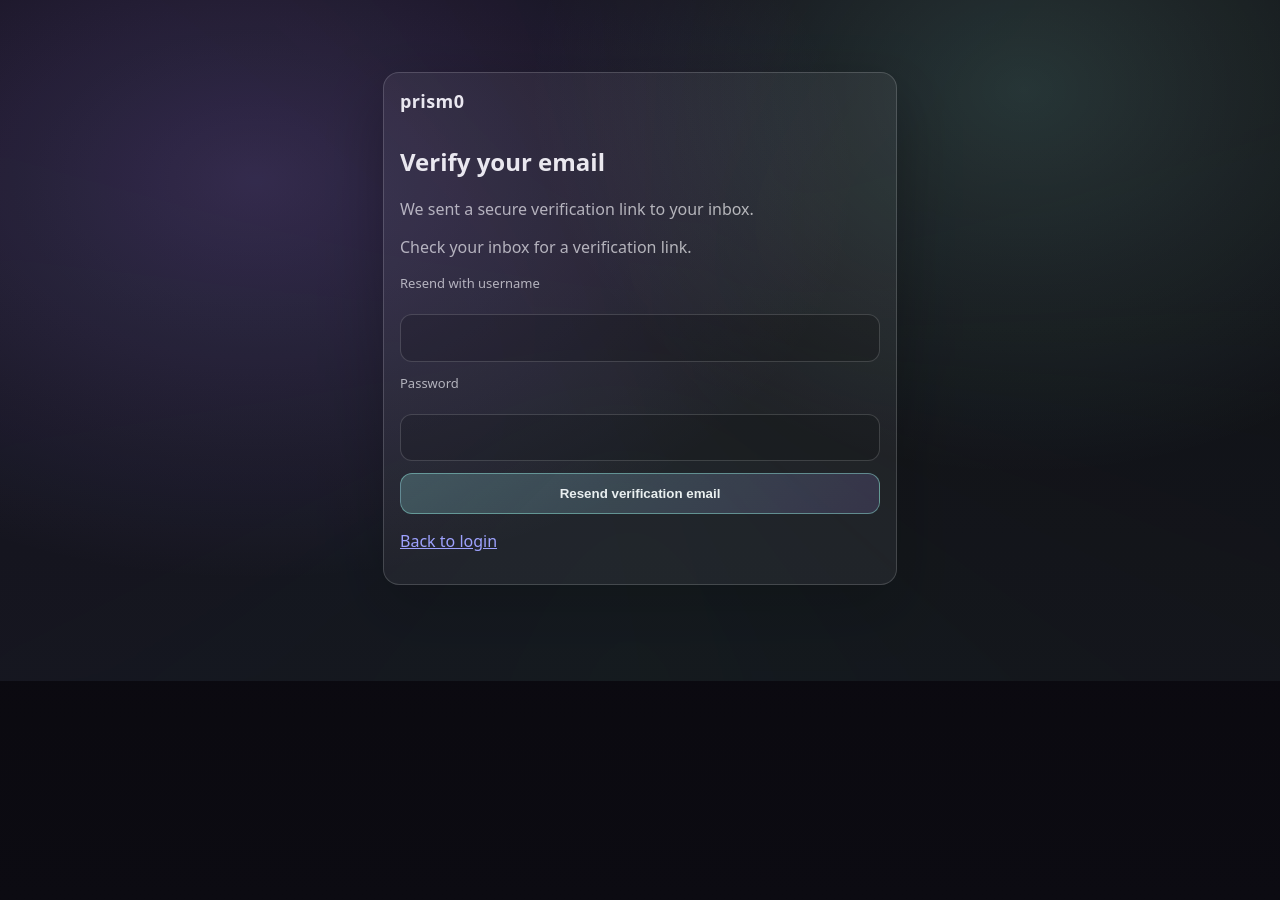
Test: VerifyEmailPage › resends verification email with entered credentials
Type "saved-user" into the field labelled "Resend with username" at (640, 338), box [400, 314, 880, 362]
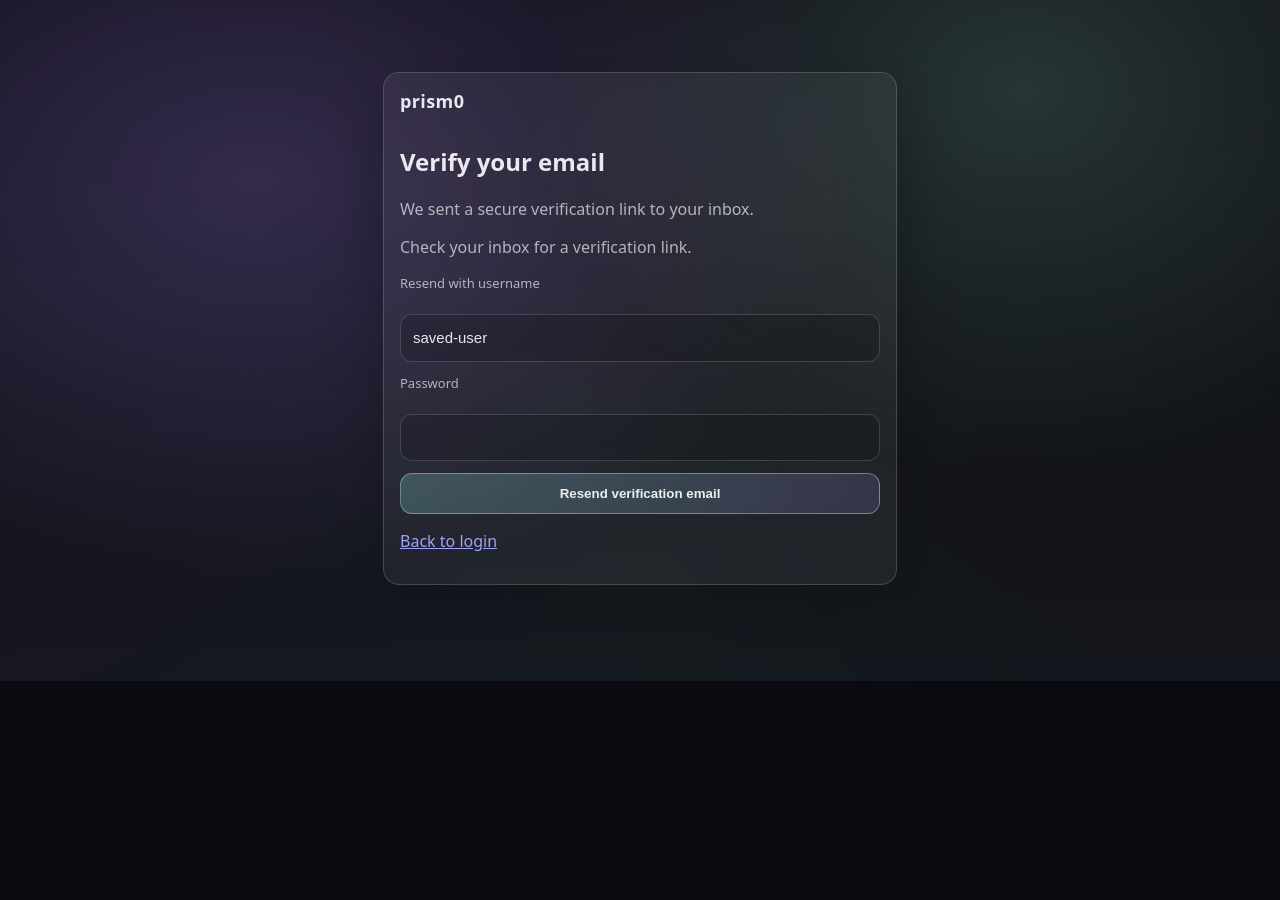
Type "secret123" into the password field labelled "Password" at (640, 438), box [400, 414, 880, 461]
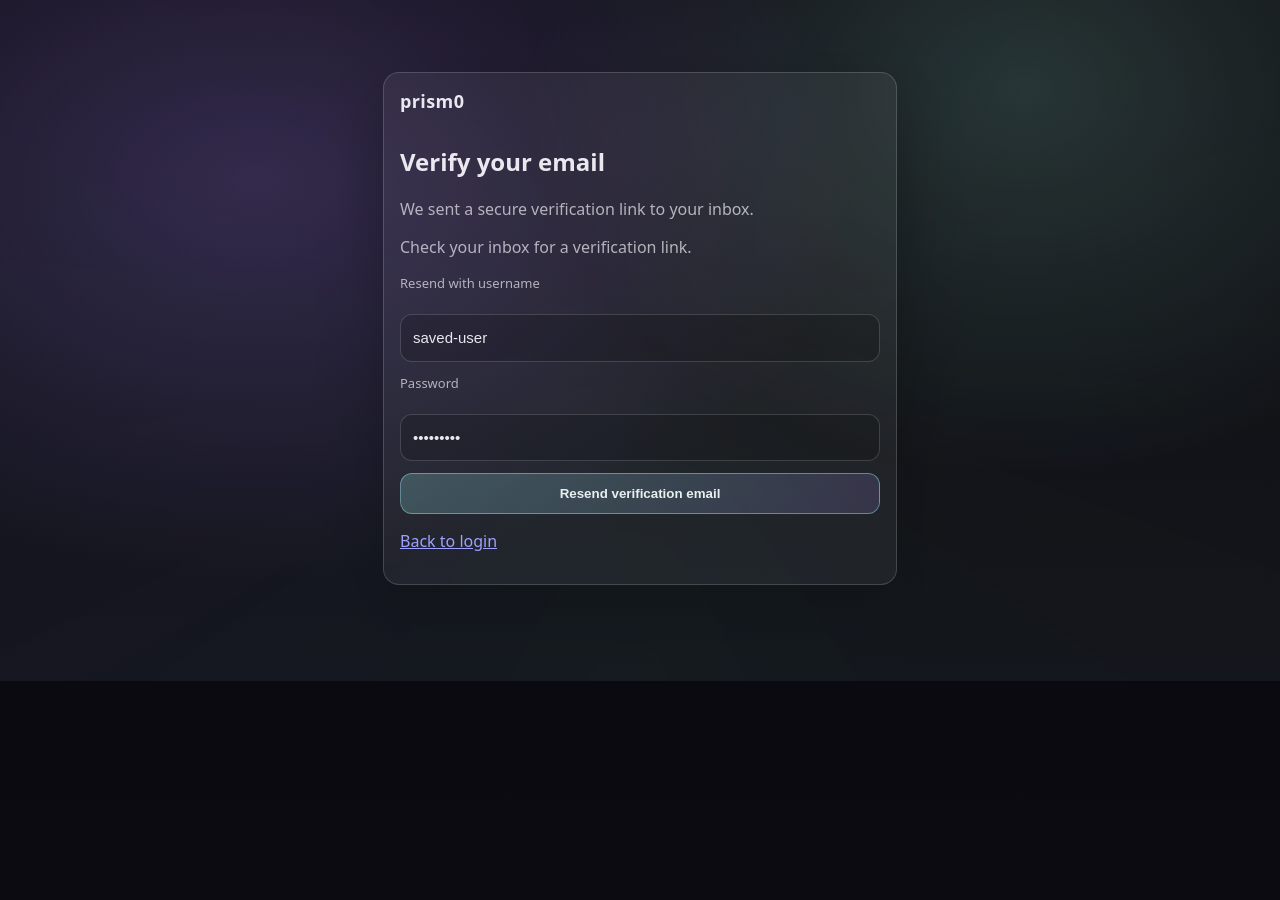
Click the button "Resend verification email" at (640, 494), box [400, 473, 880, 514]
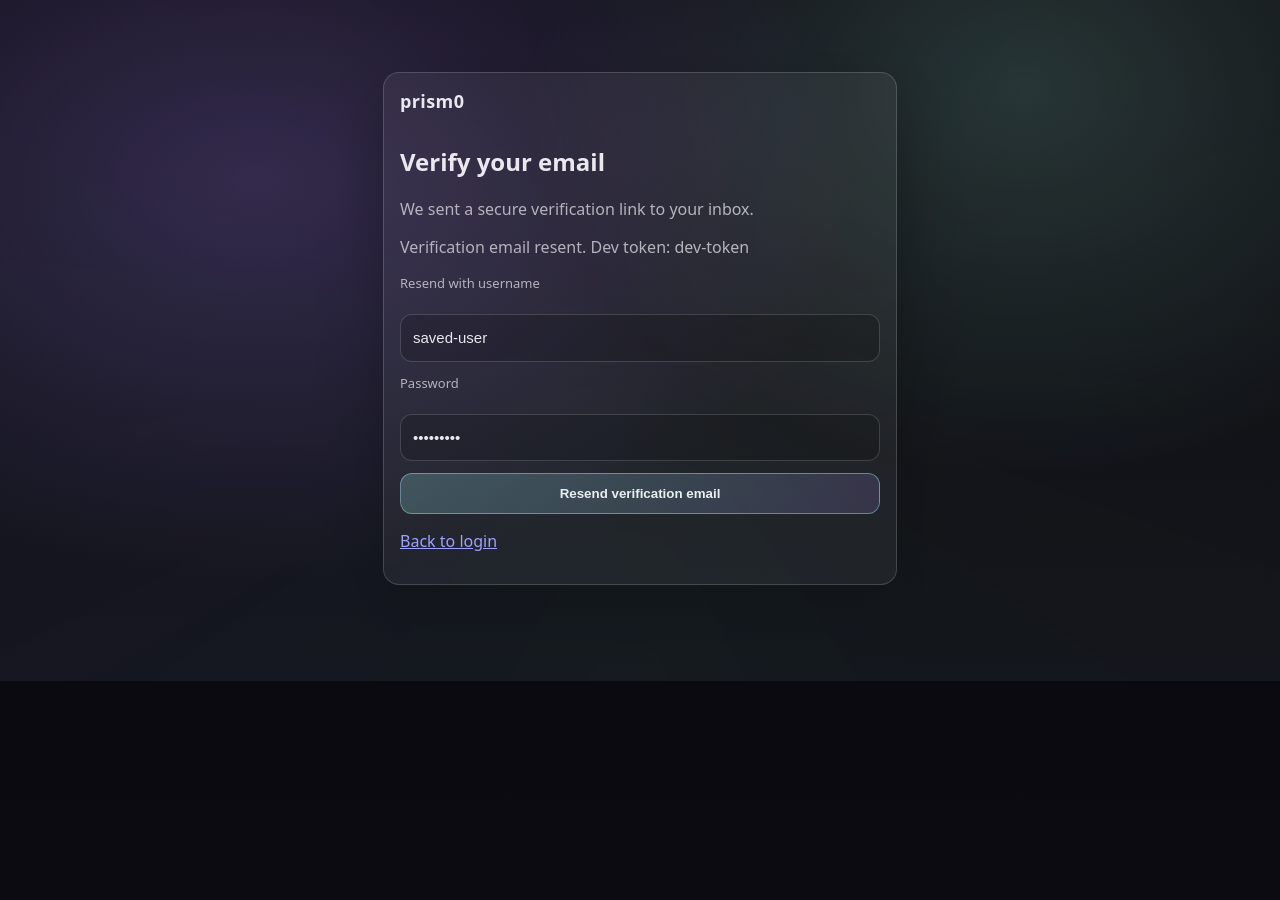
Check: the text "Verification email resent. Dev token: dev-token" is shown, box [400, 236, 749, 258]
